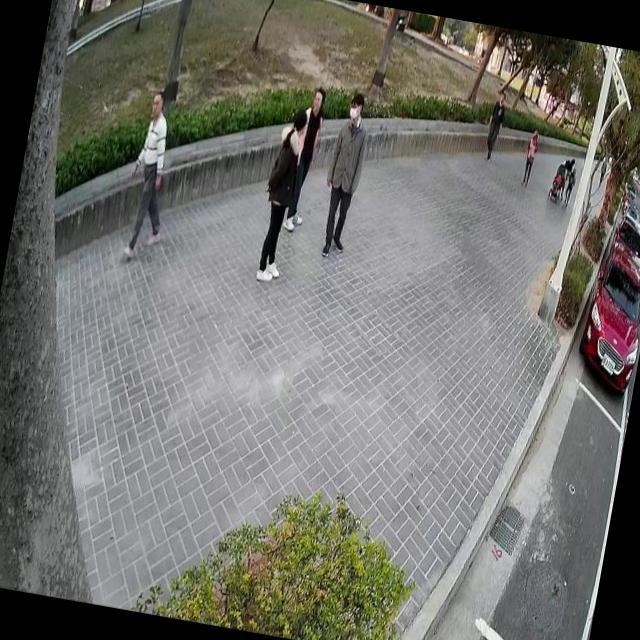person: (116, 86, 188, 262), (245, 98, 312, 286), (310, 85, 375, 262), (280, 82, 330, 237), (479, 85, 510, 163), (517, 124, 542, 188), (552, 149, 576, 204), (558, 162, 580, 210)
